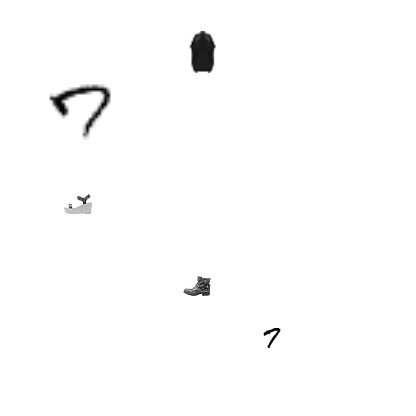7: (38, 58, 122, 142), (258, 321, 286, 349)
Ankle_boot: (183, 272, 211, 300)
Dress: (181, 31, 223, 73)
Sandal: (64, 189, 92, 217)
